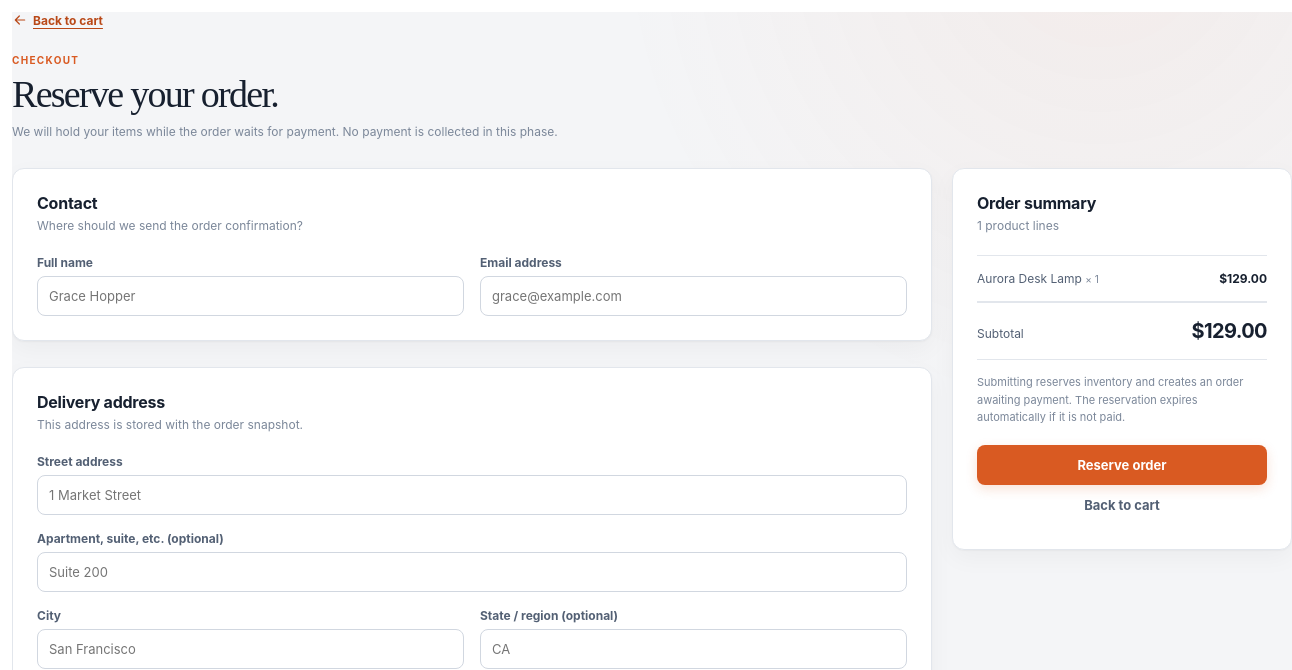
Test case: StoreCheckoutPage › validates required checkout fields before submitting
The width and height of the screenshot is (1292, 670).
Click the button "Reserve order": (1122, 465) [977,445,1267,485]
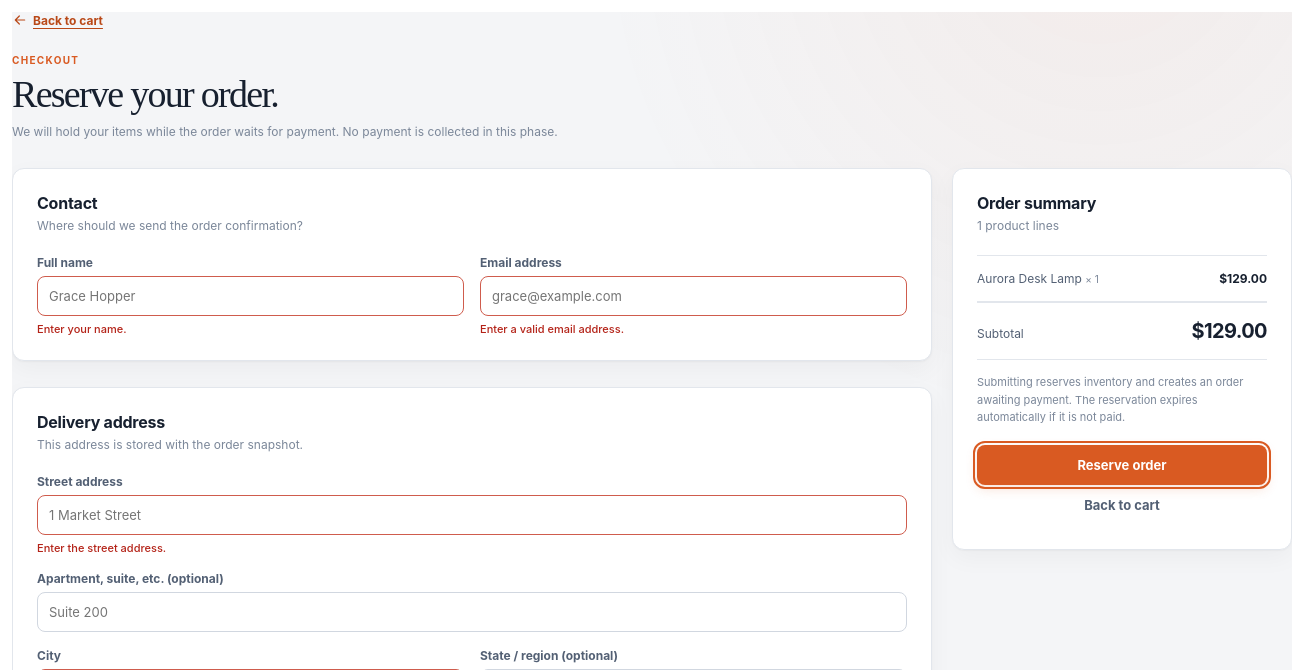
Expected: the text "Enter your name." is shown, [37,322,126,336]
Expected: the text "Enter a valid email address." is shown, [480,322,624,336]
Expected: the text "Enter the street address." is shown, [37,541,166,555]
